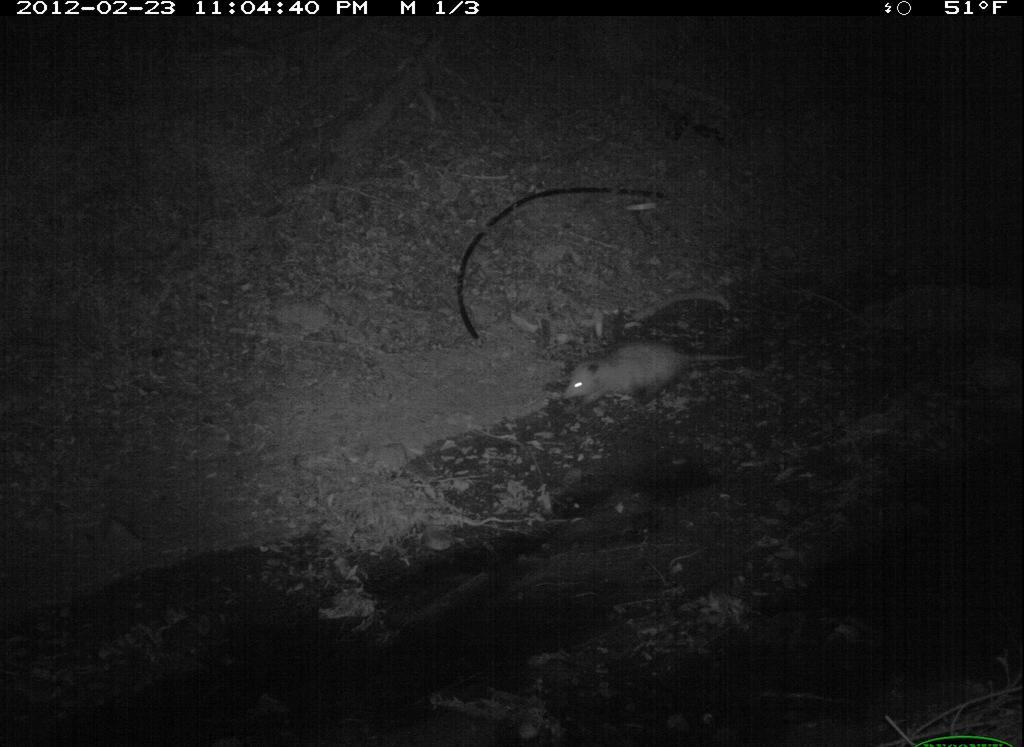opossum: (545, 341, 757, 456)
